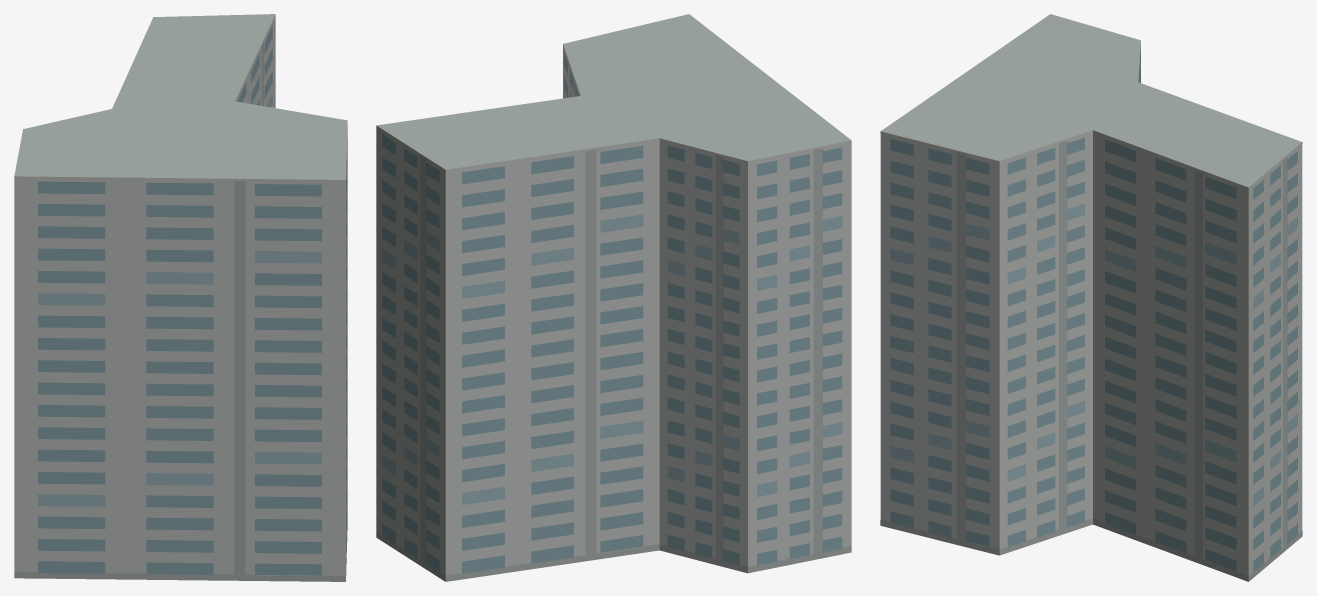
The model's file is residential-e9236974-4638-410f-9ef8-eb1ddcea008d.glb.
3 renders of one model, left to right at view 1: azimuth 30°, elevation 25°; view 2: azimuth 150°, elevation 25°; view 3: azimuth 270°, elevation 25°, orthographic. The views are drawn at different scales.
Visible parts, largest first — view 1: residential-e9236974-4638-410f-9ef8-eb1ddcea008d.tmp; view 2: residential-e9236974-4638-410f-9ef8-eb1ddcea008d.tmp; view 3: residential-e9236974-4638-410f-9ef8-eb1ddcea008d.tmp.
Part boxes in pixels (left/top/right/bottom): residential-e9236974-4638-410f-9ef8-eb1ddcea008d.tmp: left=14, top=14, right=347, bottom=581; residential-e9236974-4638-410f-9ef8-eb1ddcea008d.tmp: left=376, top=14, right=851, bottom=581; residential-e9236974-4638-410f-9ef8-eb1ddcea008d.tmp: left=880, top=14, right=1302, bottom=581.
Bounding box in the file's own units: 45.31 × 48 × 46.55.
